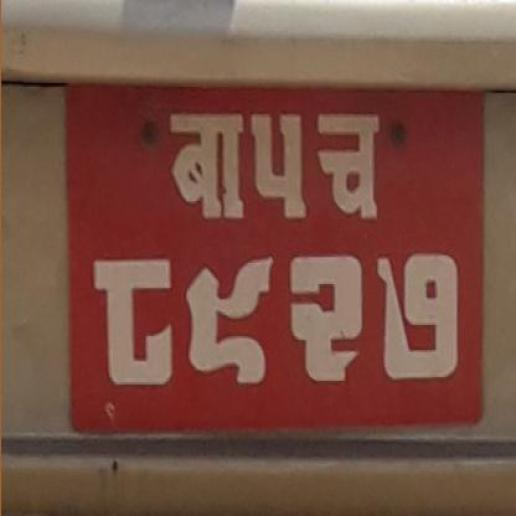2: (282, 246, 367, 392)
5: (247, 104, 310, 232)
7: (373, 243, 465, 387)
8: (83, 244, 181, 397)
9: (183, 248, 276, 397)
ba: (162, 104, 247, 226)
cha: (312, 104, 390, 232)
